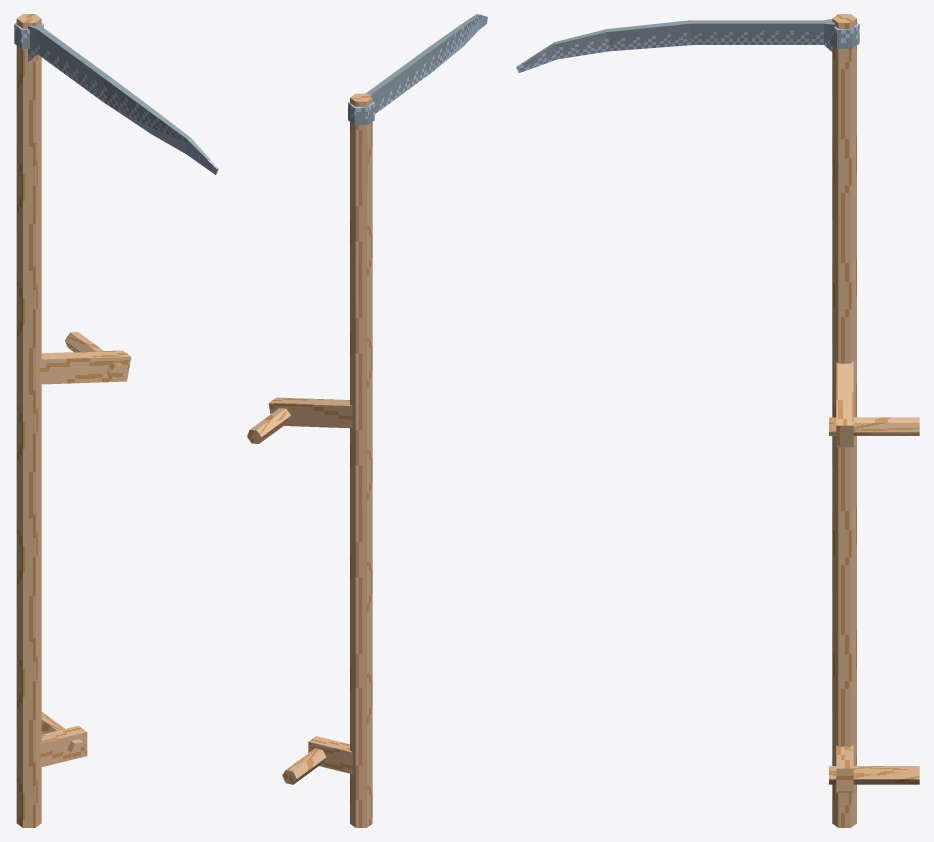
File: scythe.glb
The picture shows the model from 3 angles, left to right: view 1: azimuth 30°, elevation 25°; view 2: azimuth 150°, elevation 25°; view 3: azimuth 270°, elevation 25°; orthographic projection. The views are drawn at different scales.
Visible parts, largest first — view 1: scythe; view 2: scythe; view 3: scythe.
Boxes of the visible parts, x1,y1,x2,y2 form: scythe: (14, 14, 218, 827); scythe: (247, 14, 487, 827); scythe: (516, 14, 919, 827).
Size of the model in its own units: 0.261 by 1.83 by 0.8324.
Materials: 2 (2 with a texture image).
